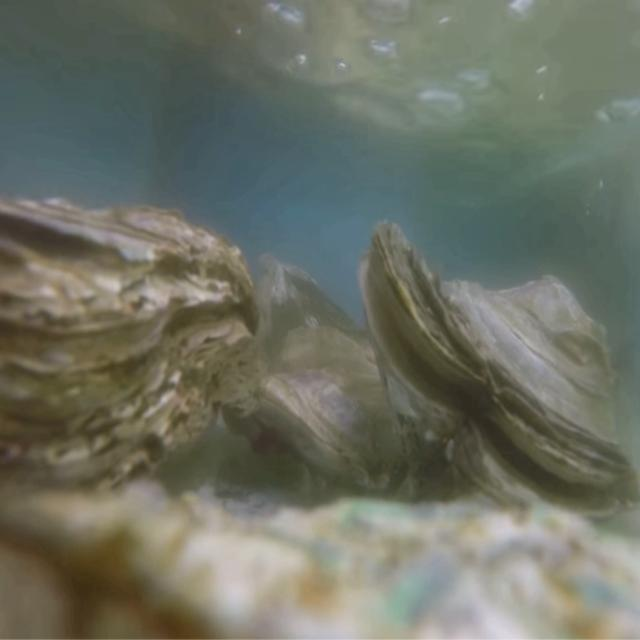Oyster-Closed: (0, 196, 261, 525), (262, 327, 417, 506)
Oyster-Indeterminate: (0, 483, 640, 640)
Oyster-Open: (358, 219, 640, 537)
